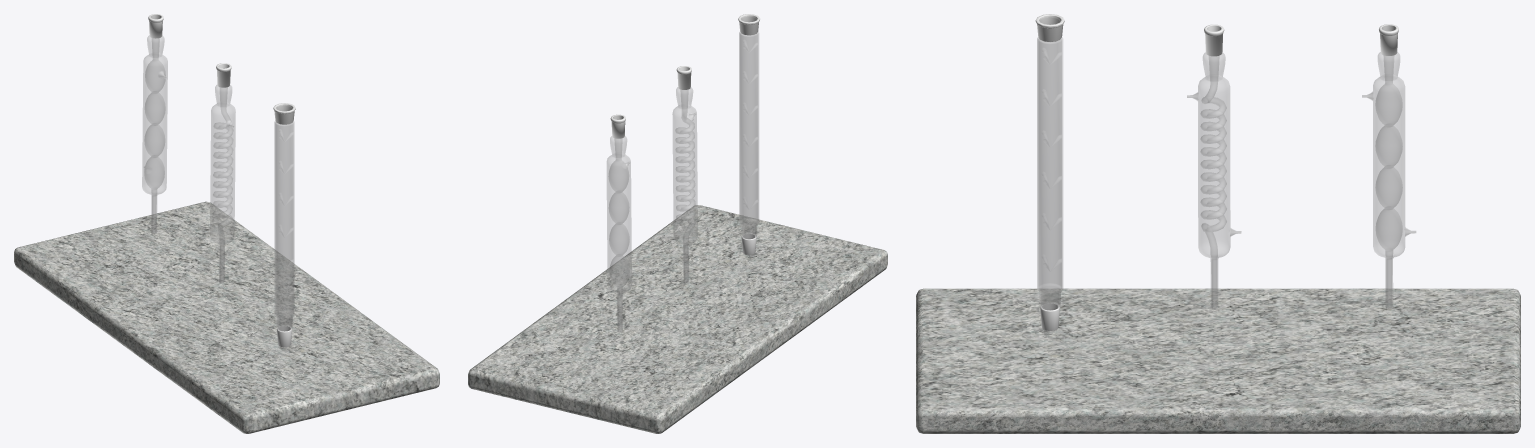
File: vigreux_columm_allhin__graham_condensers.glb
3 views of the same model, side by side, from view 1: azimuth 30°, elevation 25°; view 2: azimuth 150°, elevation 25°; view 3: azimuth 270°, elevation 25° (orthographic). The views are drawn at different scales.
Visible parts, largest first — view 1: Cube, ColunaVigreux, CondensadorAllhin, CondensadorGrahan; view 2: Cube, ColunaVigreux, CondensadorAllhin, CondensadorGrahan; view 3: Cube, ColunaVigreux, CondensadorAllhin, CondensadorGrahan.
Part boxes in pixels (left/top/right/bottom): Cube: left=14, top=201, right=439, bottom=433; ColunaVigreux: left=273, top=103, right=295, bottom=351; CondensadorAllhin: left=142, top=14, right=167, bottom=234; CondensadorGrahan: left=210, top=63, right=235, bottom=283; Cube: left=468, top=205, right=887, bottom=433; ColunaVigreux: left=738, top=14, right=759, bottom=256; CondensadorAllhin: left=607, top=114, right=631, bottom=332; CondensadorGrahan: left=672, top=66, right=697, bottom=283; Cube: left=916, top=288, right=1520, bottom=433; ColunaVigreux: left=1035, top=14, right=1064, bottom=335; CondensadorAllhin: left=1362, top=24, right=1416, bottom=308; CondensadorGrahan: left=1187, top=24, right=1241, bottom=309.
Size of the model in its own units: 0.3149 by 0.4109 by 0.6436.
3 materials, 2 textured.
